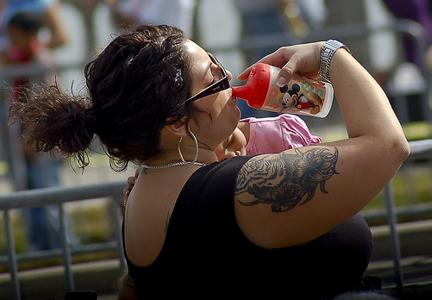person: (7, 22, 412, 300)
